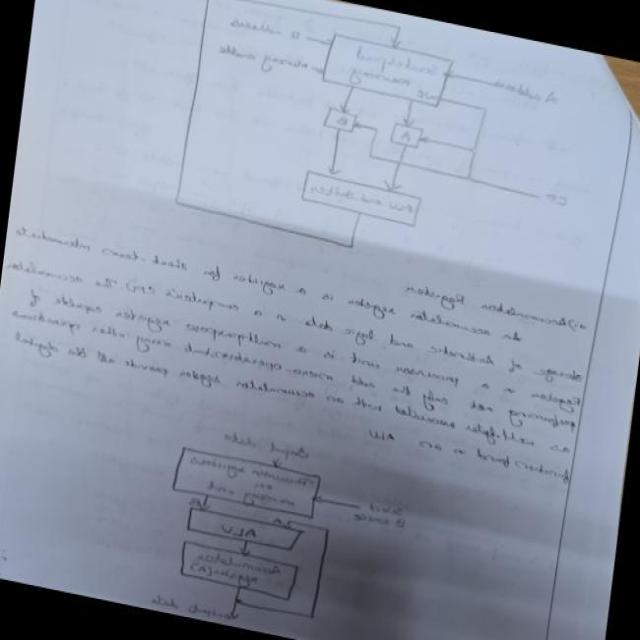Figure Detection - v3 Dataset Version2: (142, 0, 600, 307), (73, 386, 431, 640)
